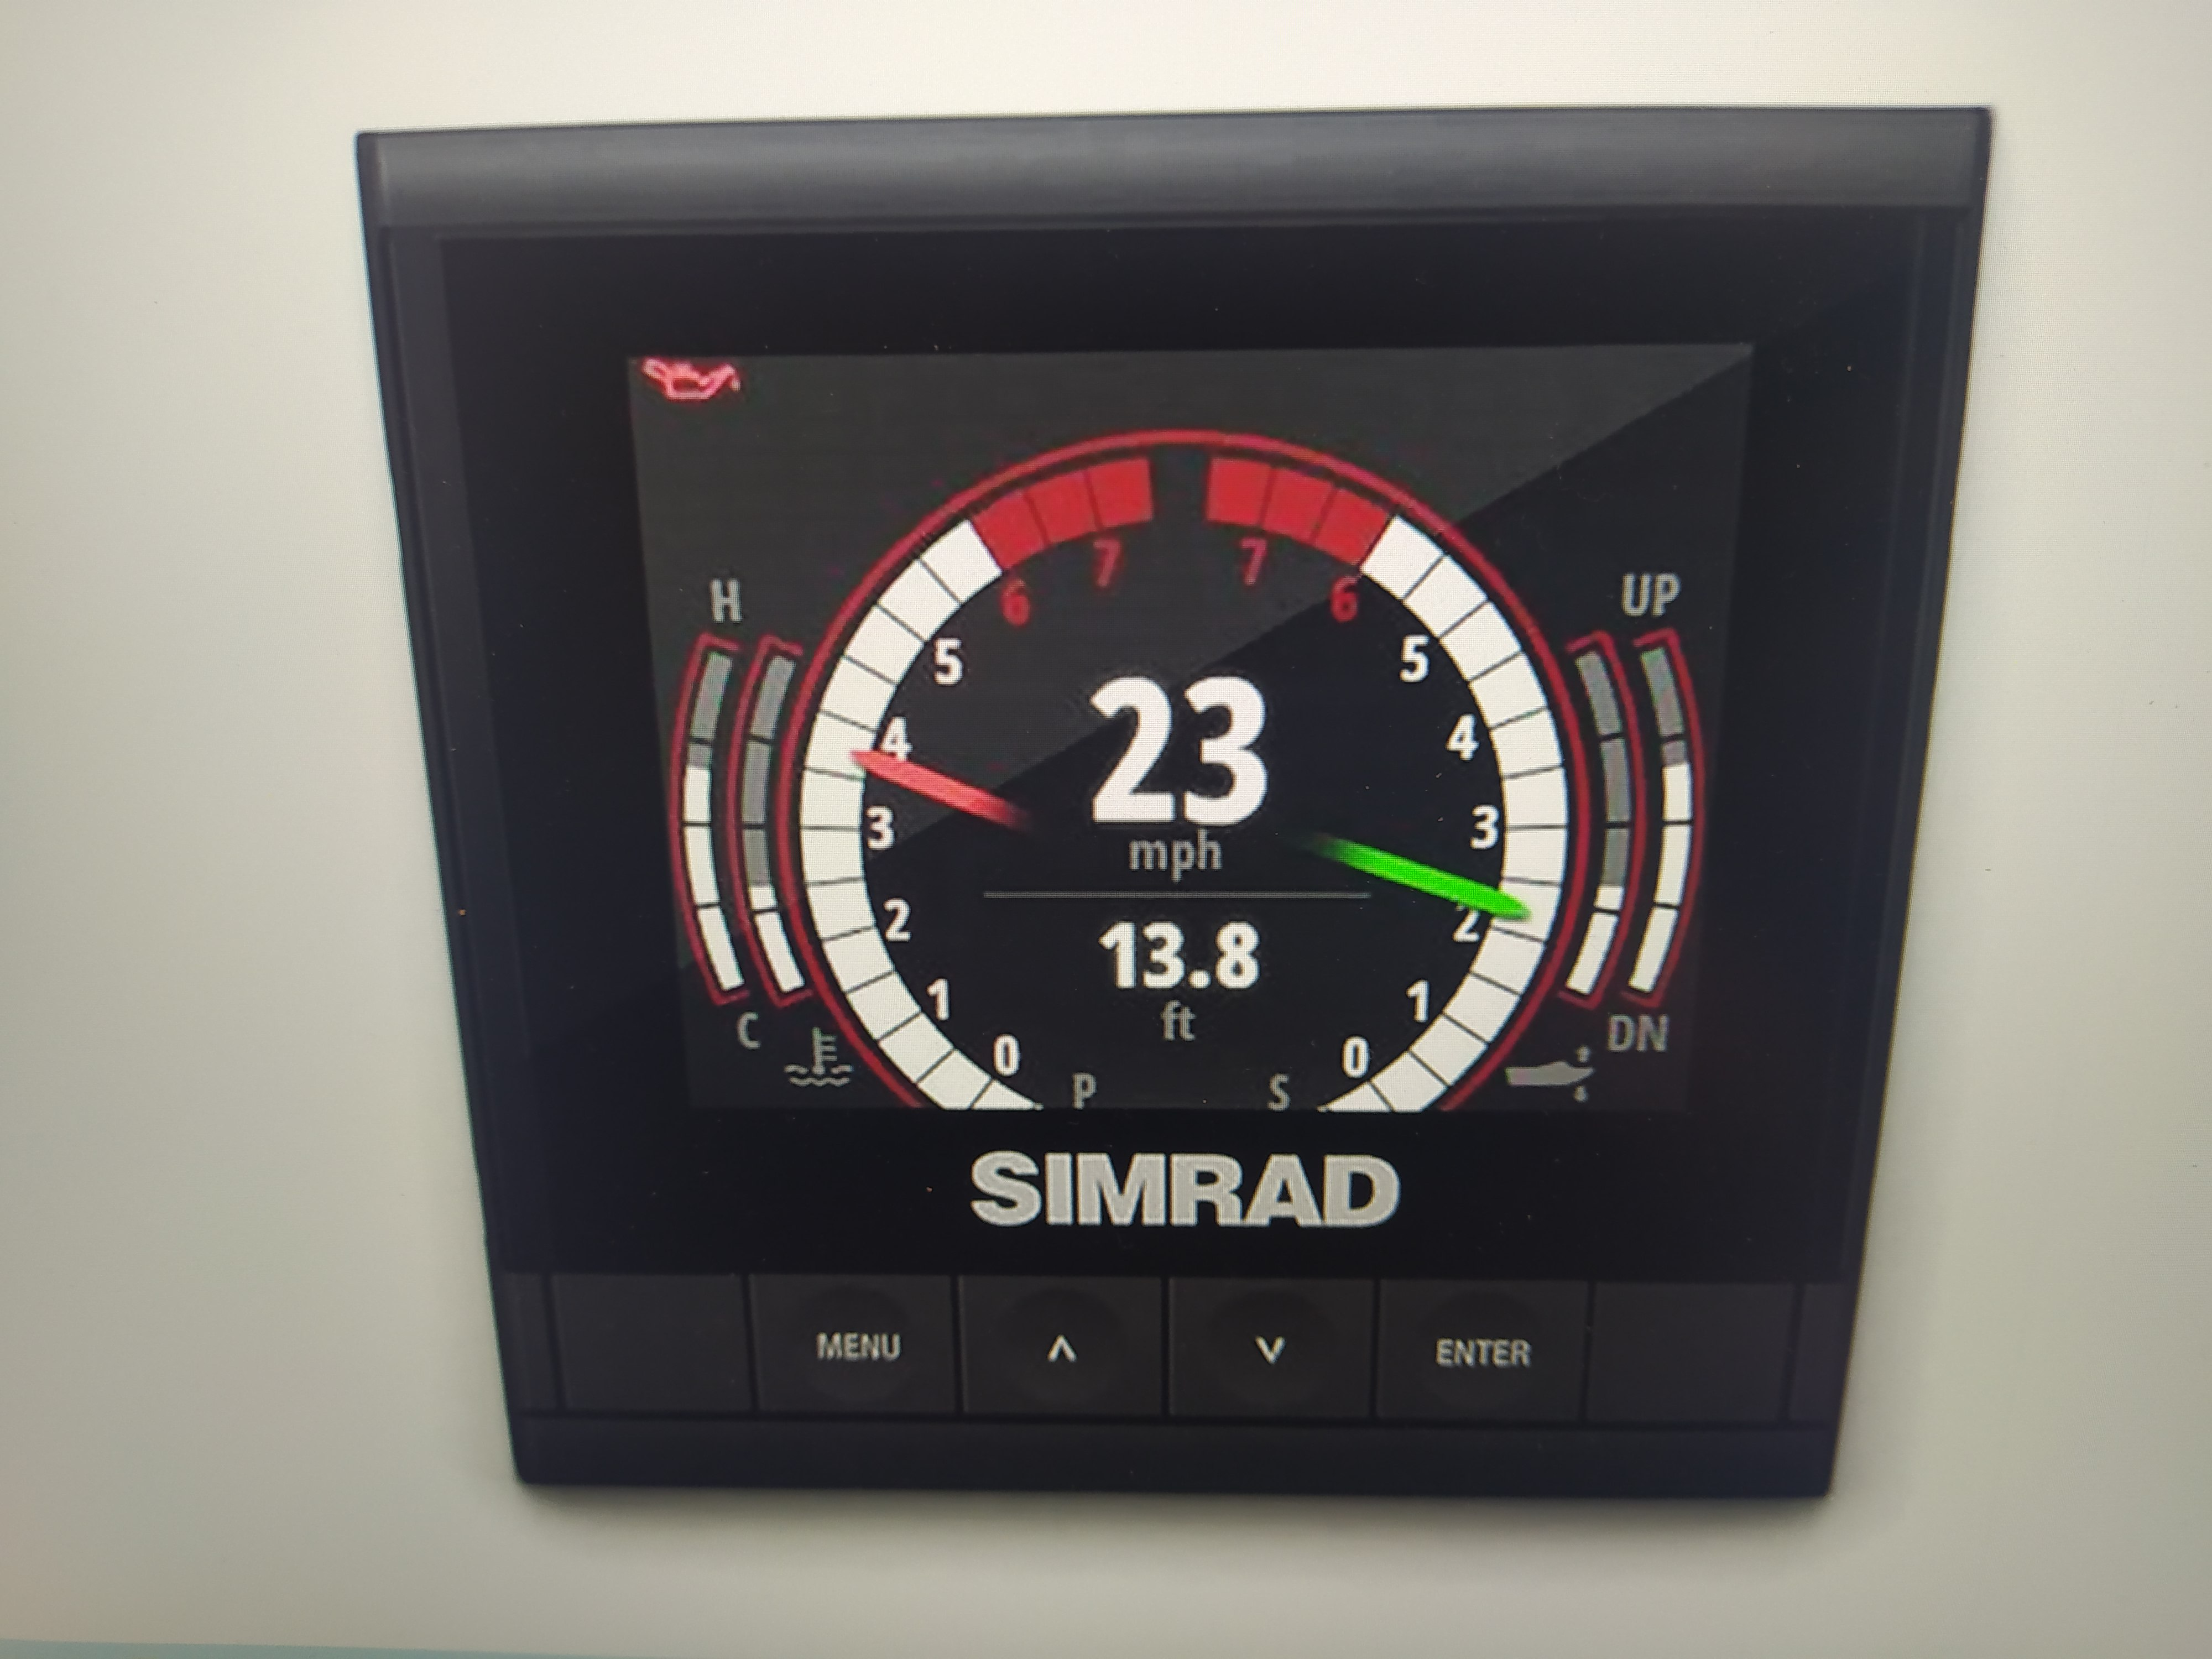.: (1188, 920, 1211, 990)
0: (1343, 1035, 1369, 1079), (993, 1033, 1019, 1075)
1: (1097, 920, 1137, 988), (1406, 979, 1428, 1021), (928, 978, 949, 1019)
2: (1087, 674, 1174, 823), (883, 897, 911, 941), (1453, 903, 1480, 941)
3: (1181, 676, 1268, 824), (1143, 920, 1184, 988), (1470, 803, 1498, 849), (867, 807, 894, 850)
4: (880, 716, 914, 763), (1446, 714, 1479, 762)
5: (1399, 634, 1430, 683), (934, 638, 965, 687)
6: (1329, 575, 1359, 624), (1001, 580, 1031, 626)
7: (1237, 535, 1268, 587), (1092, 538, 1122, 589)
8: (1216, 920, 1259, 990)
